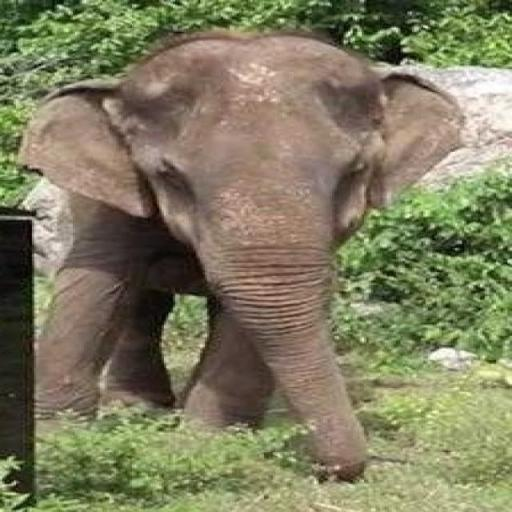Elephant: (16, 26, 466, 484)
